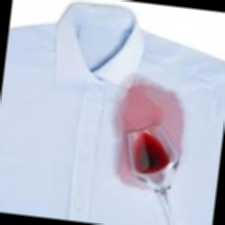wine: (117, 84, 188, 135), (109, 129, 129, 169), (111, 170, 147, 187)
